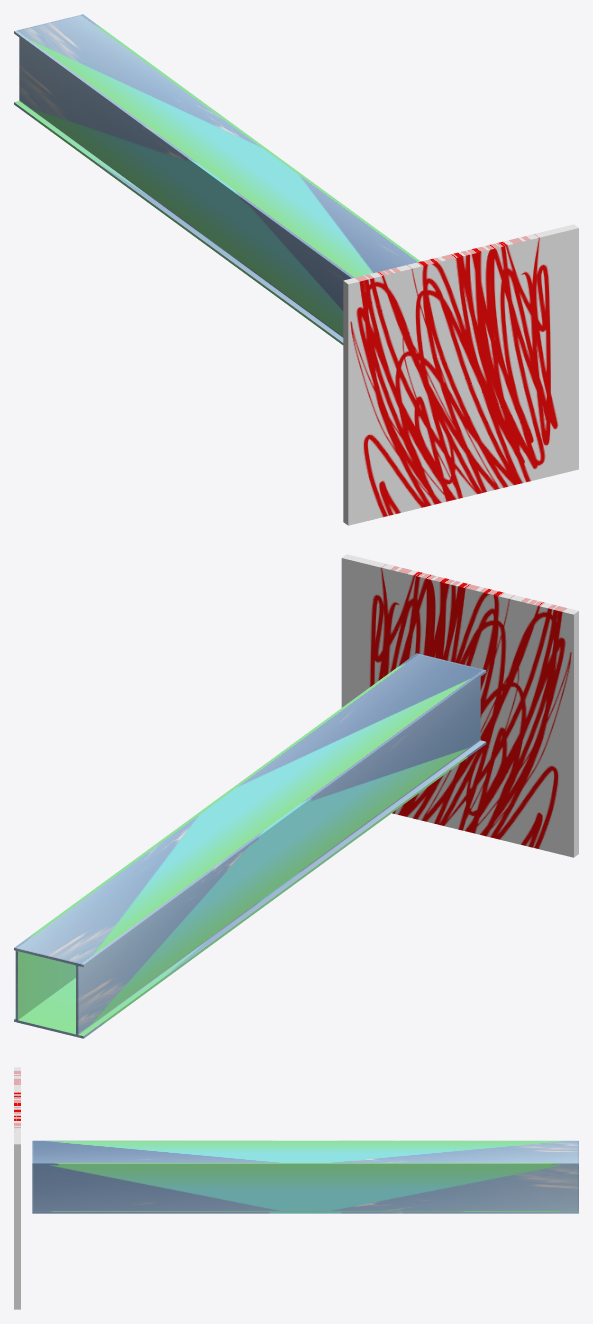
Rendered from DepthStage.fbx.
3 views of the same model, one above another, from view 1: azimuth 30°, elevation 25°; view 2: azimuth 150°, elevation 25°; view 3: azimuth 270°, elevation 25° (orthographic). The views are drawn at different scales.
Visible parts, largest first — view 1: pCube9; view 2: pCube9; view 3: pCube9.
Part boxes in pixels (x1,y1,x2,y2): pCube9: (14, 14, 578, 525); pCube9: (14, 554, 578, 1038); pCube9: (14, 1067, 578, 1309).
Bounding box in the file's own units: 99.96 × 99.96 × 310.
